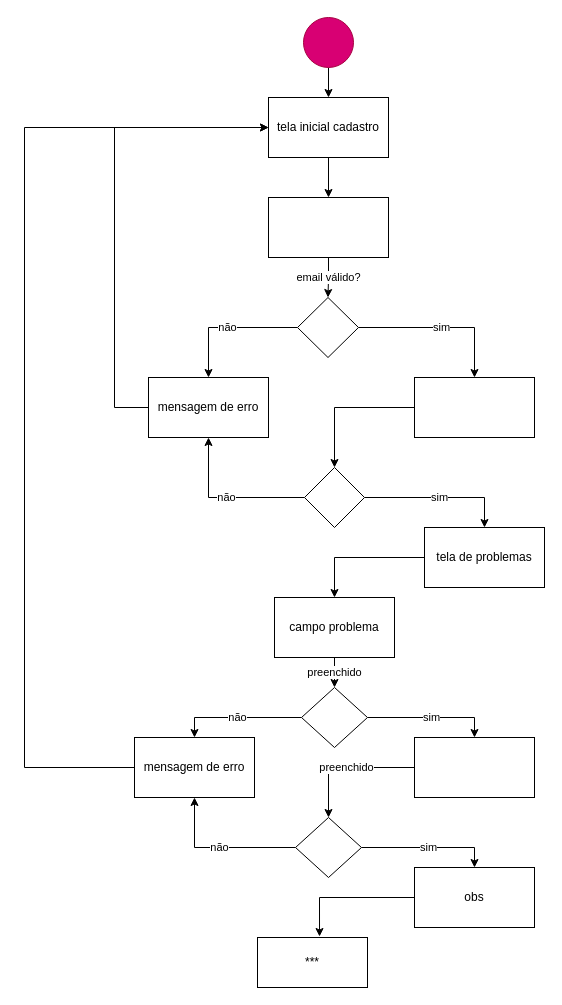
Some shapes in this 562 by 1005 pixel diagram are drawn without their labels. The shapes that lost their labels are listed below. From the top down, each one's box as (x1, y1, x2, y2) in pixels, then its label:
(268, 196, 388, 258): inserir email
(414, 376, 534, 438): inserir senha
(414, 736, 534, 798): numlab e pc
